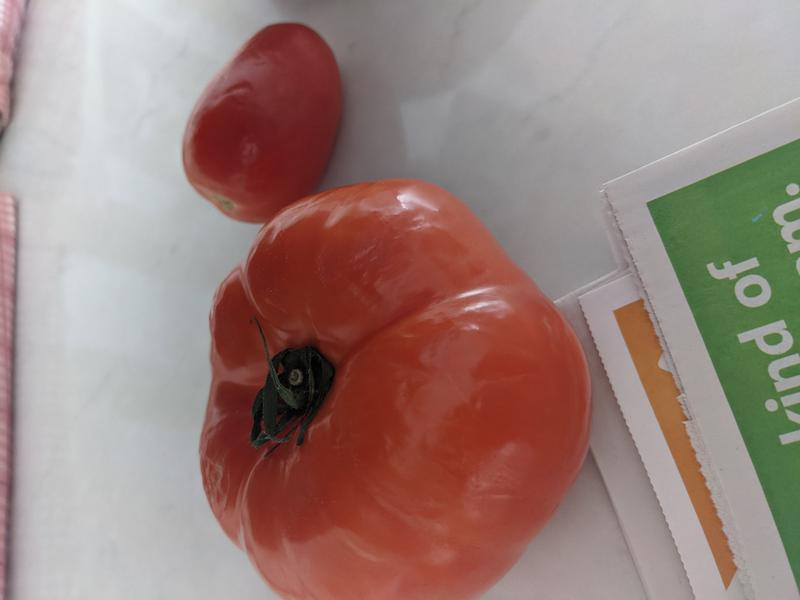tomato: (196, 179, 594, 600), (179, 22, 345, 225)
